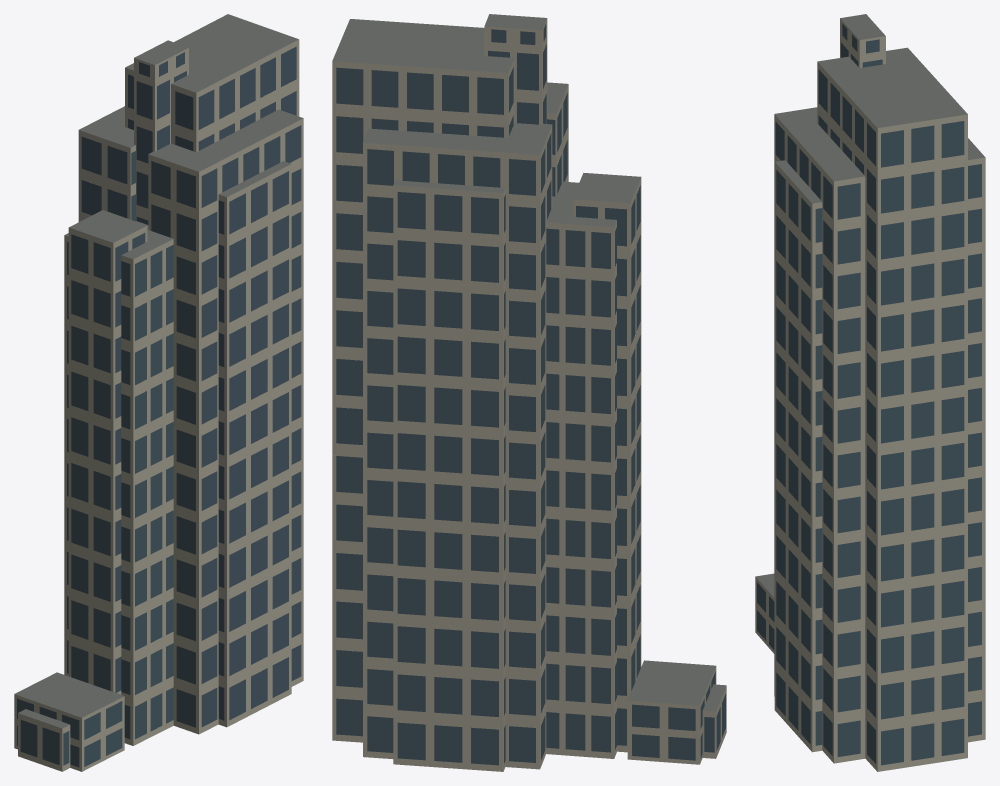
Rendered from mondriaan-tower-far.glb.
3 renders of one model, left to right at view 1: azimuth 30°, elevation 25°; view 2: azimuth 150°, elevation 25°; view 3: azimuth 270°, elevation 25°, orthographic. The views are drawn at different scales.
Parts seen in each view (by area): view 1: mondriaan-tower-0-glass, mondriaan-tower-0-stone, mondriaan-tower-0-roof; view 2: mondriaan-tower-0-glass, mondriaan-tower-0-stone, mondriaan-tower-0-roof; view 3: mondriaan-tower-0-glass, mondriaan-tower-0-stone, mondriaan-tower-0-roof.
Boxes of the visible parts, box(x1,y1,x2,y2) form: mondriaan-tower-0-glass: box(17, 46, 301, 767); mondriaan-tower-0-stone: box(14, 39, 303, 771); mondriaan-tower-0-roof: box(14, 14, 303, 728); mondriaan-tower-0-glass: box(336, 24, 725, 765); mondriaan-tower-0-stone: box(332, 18, 726, 771); mondriaan-tower-0-roof: box(332, 14, 726, 711); mondriaan-tower-0-glass: box(757, 24, 981, 765); mondriaan-tower-0-stone: box(755, 19, 985, 771); mondriaan-tower-0-roof: box(755, 14, 985, 597).
Size of the model in its own units: 59.63 by 120 by 37.26.
